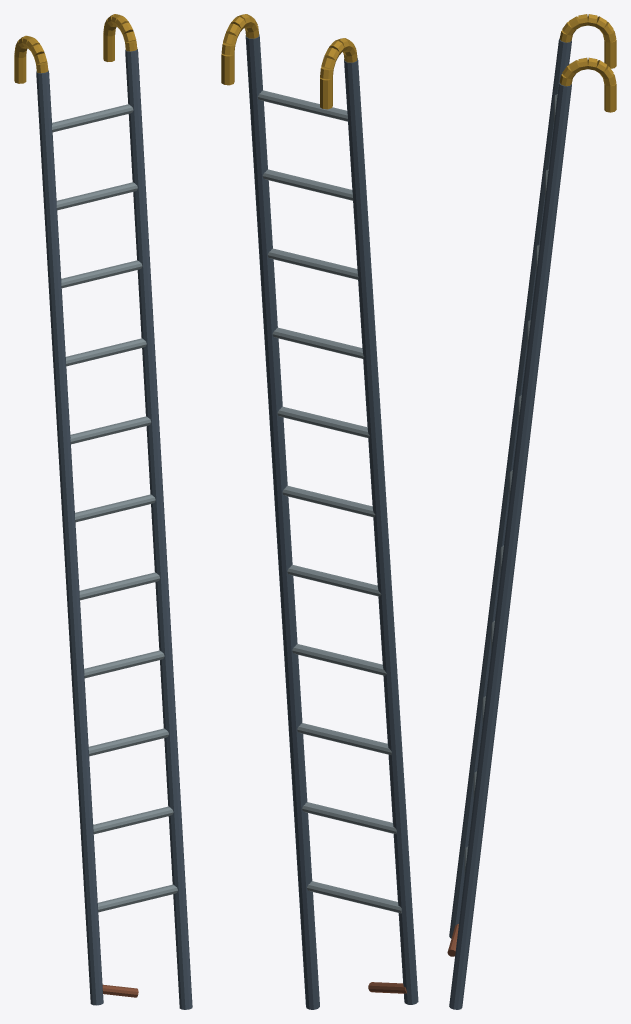
The model's file is B-03_broken_ladder.glb.
3 renders of one model, left to right at view 1: azimuth 30°, elevation 25°; view 2: azimuth 150°, elevation 25°; view 3: azimuth 270°, elevation 25°, orthographic. The views are drawn at different scales.
Visible parts, largest first — view 1: B-03_broken_ladder; view 2: B-03_broken_ladder; view 3: B-03_broken_ladder.
Boxes of the visible parts, x1,y1,x2,y2 form: B-03_broken_ladder: (14,14,192,1009); B-03_broken_ladder: (221,14,418,1009); B-03_broken_ladder: (447,14,616,1009).
Bounding box in the file's own units: 0.718 × 6.49 × 1.05.
